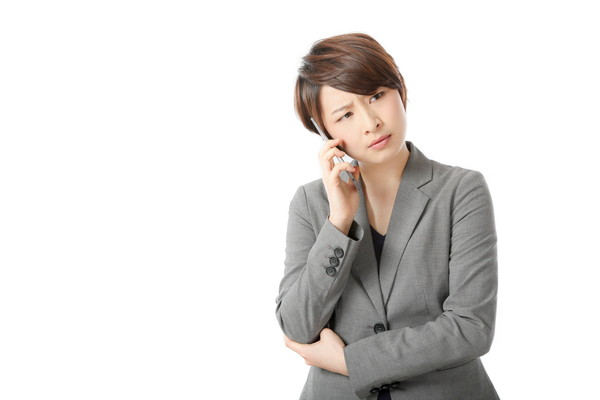phone: (314, 134, 361, 188)
talk: (308, 81, 405, 207)
